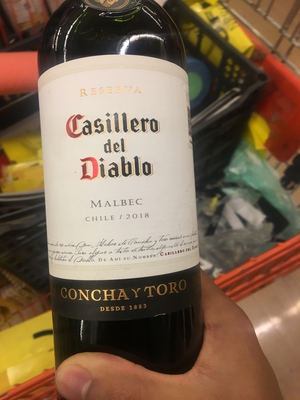casillero del diablo malbec: (33, 7, 222, 386)
